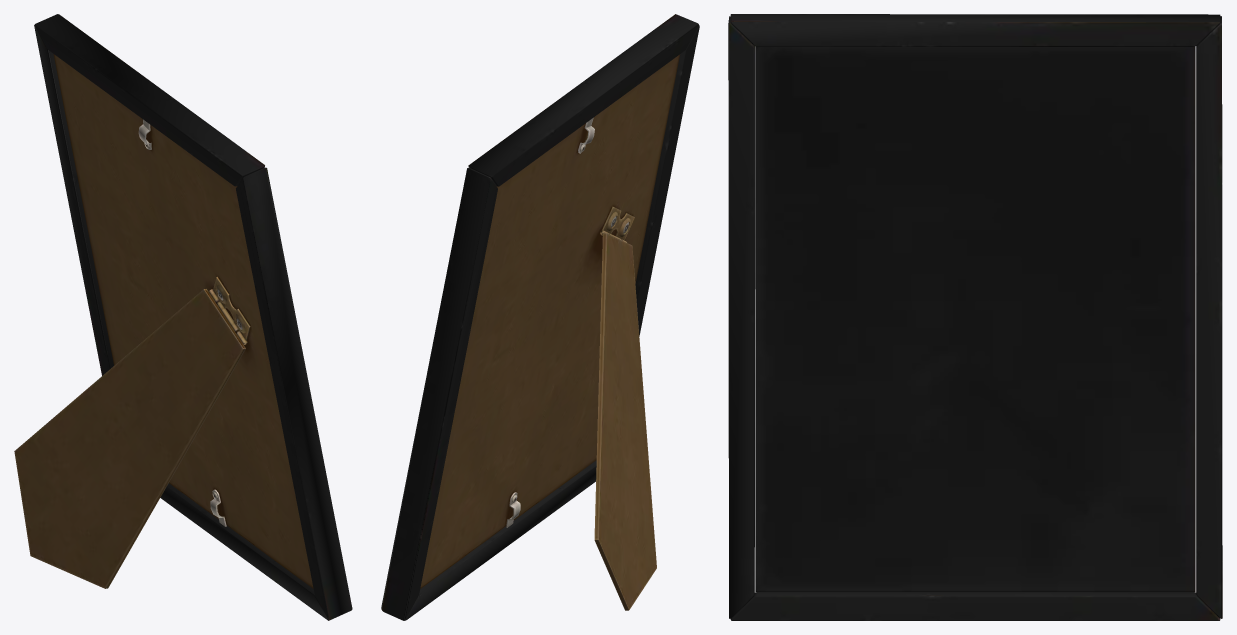
File: standing_picture_frame_01.glb
3 views of the same model, side by side, from view 1: azimuth 30°, elevation 25°; view 2: azimuth 150°, elevation 25°; view 3: azimuth 270°, elevation 25° (orthographic). The views are drawn at different scales.
Parts seen in each view (by area): view 1: standing_picture_frame_01; view 2: standing_picture_frame_01; view 3: standing_picture_frame_01.
Boxes of the visible parts, x1,y1,x2,y2 form: standing_picture_frame_01: [14, 14, 352, 620]; standing_picture_frame_01: [381, 14, 699, 620]; standing_picture_frame_01: [728, 14, 1222, 620].
Size of the model in its own units: 0.1003 by 0.2496 by 0.2008.
3 materials, 3 textured.
